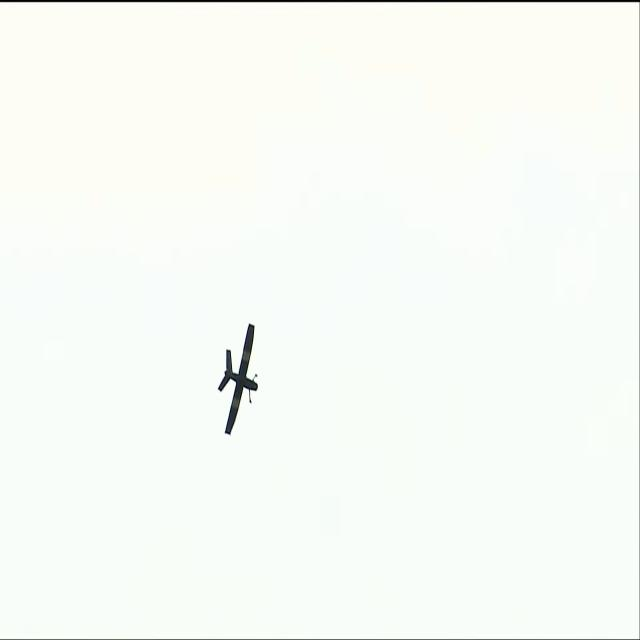iha: (218, 355, 259, 405)
